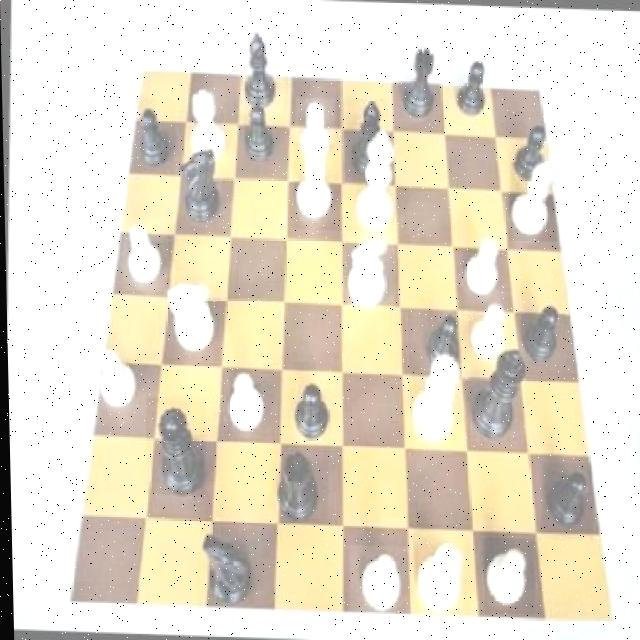bishop: (235, 30, 286, 114), (343, 97, 389, 181)
black-bishop: (466, 340, 527, 452)
black-king: (192, 528, 256, 612), (172, 144, 227, 232)
black-knight: (407, 309, 467, 383), (537, 462, 594, 539), (511, 300, 565, 376), (128, 98, 177, 176), (234, 100, 283, 174), (447, 56, 492, 132), (505, 122, 554, 188), (288, 375, 335, 443)
black-pawn: (141, 397, 206, 496)
black-queen: (266, 444, 329, 524), (396, 44, 442, 126)
black-rook: (290, 142, 342, 230), (506, 162, 558, 240)
white-bishop: (348, 128, 410, 244)
white-king: (162, 278, 220, 371), (341, 231, 396, 308)
white-knight: (345, 546, 410, 620), (461, 290, 516, 372), (480, 537, 534, 615), (87, 340, 139, 415), (456, 229, 508, 303), (121, 215, 170, 292), (223, 363, 268, 435), (292, 97, 336, 167)
white-pawn: (401, 348, 466, 450)
white-queen: (414, 532, 464, 616), (182, 86, 231, 171)
